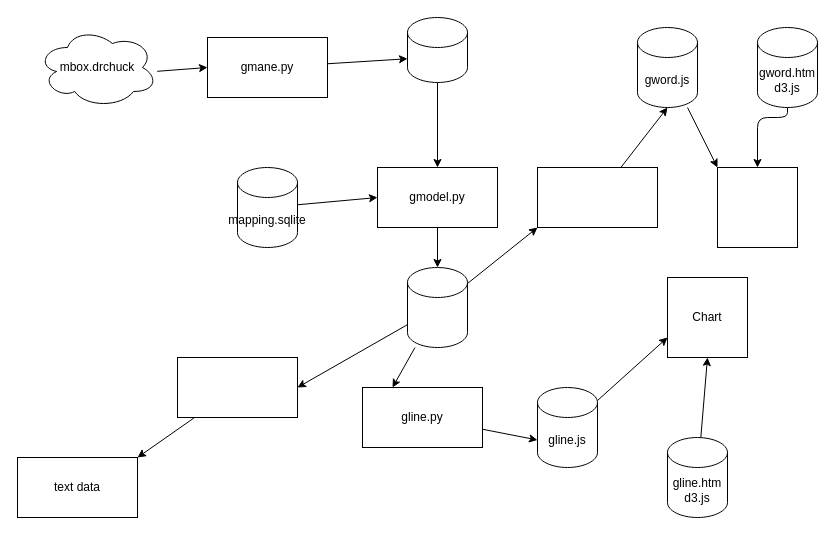
This 835x535 diagram has some shape labels left out. The shapes that lost their labels are listed below. From the top down, each one's centre as x and y in pixels, then its label:
the point at 437,49: content.sqlite
the point at 597,197: gword.py
the point at 757,207: img
the point at 437,307: index.sqlite
the point at 237,387: gbasic.py
